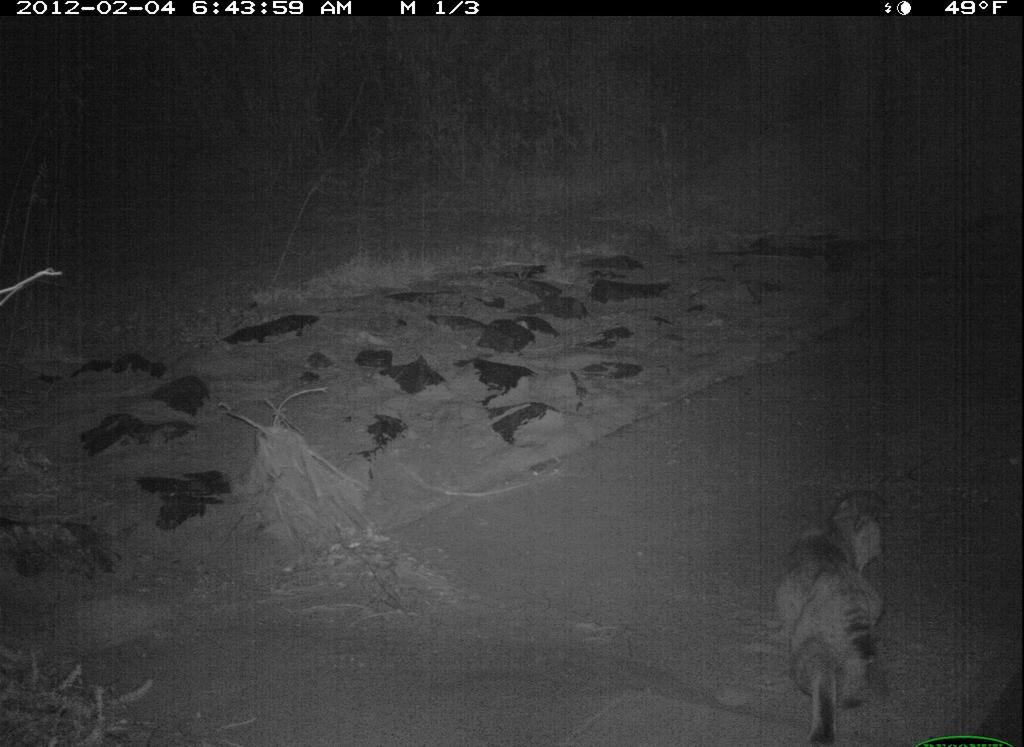bobcat: (775, 474, 893, 744)
